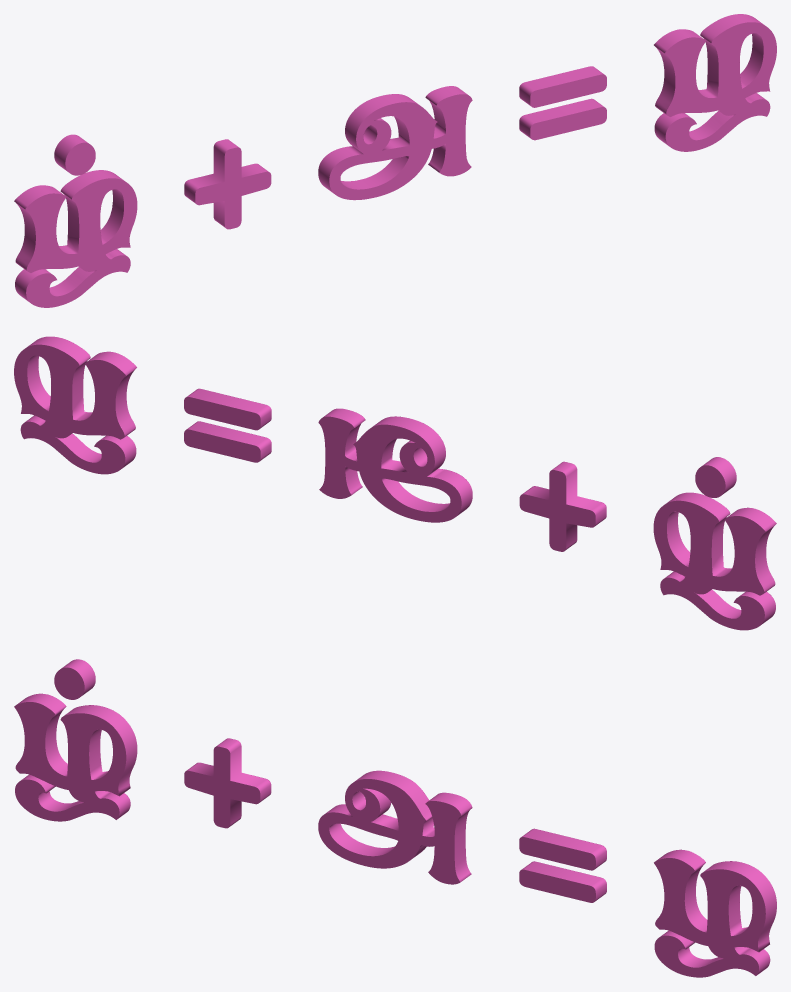
3 views of the same model, one above another, from view 1: azimuth 30°, elevation 25°; view 2: azimuth 150°, elevation 25°; view 3: azimuth 330°, elevation 25° (orthographic).
Visible parts, largest first — view 1: zha; view 2: zha; view 3: zha.
Part boxes in pixels (x1,y1,x2,y2): zha: [14, 14, 776, 307]; zha: [14, 336, 776, 630]; zha: [14, 659, 776, 977].
Size of the model in its own units: 0.1678 by 0.0336 by 0.00431.
